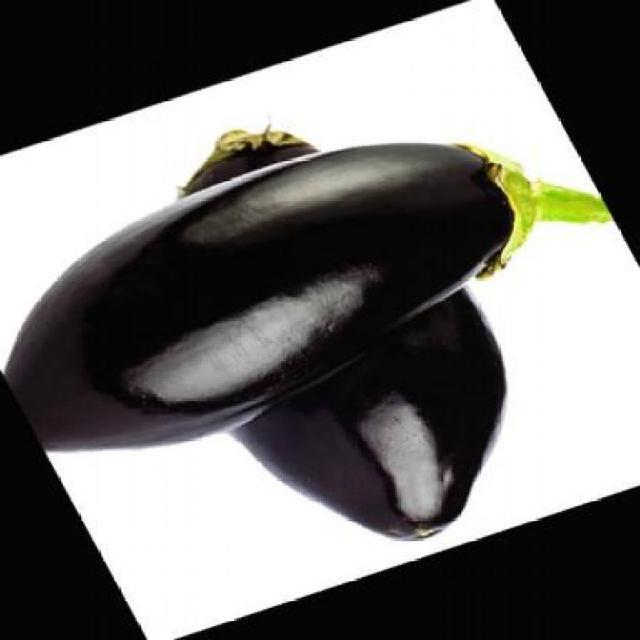eggplant: (0, 138, 618, 456), (168, 127, 512, 547)
